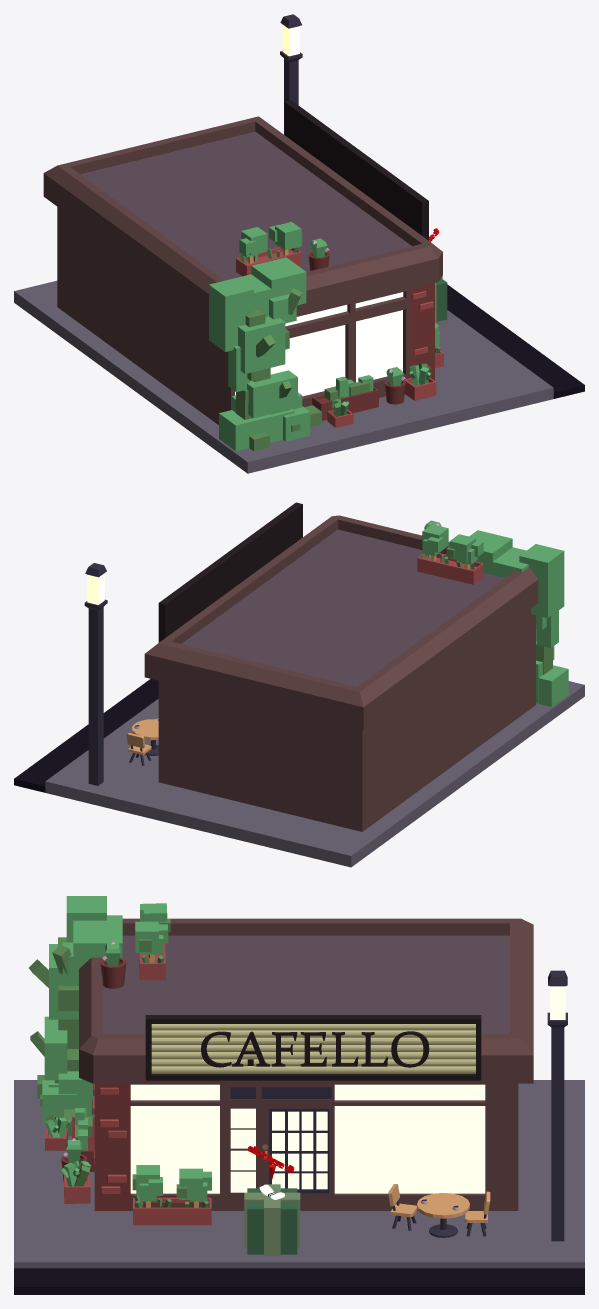
The model's file is placeholder-scene.gltf.
3 renders of one model, top to bottom at view 1: azimuth 30°, elevation 25°; view 2: azimuth 150°, elevation 25°; view 3: azimuth 270°, elevation 25°, orthographic. The views are drawn at different scales.
Visible parts, largest first — view 1: Cube.001, Cube, Plane.001, Cube.073, Cube.035, Cube.046, Cube.036, Cube.043, Cube.034, Cube.072, Cube.051, Cube.022 (+6 smaller); view 2: Cube.001, Cube, Plane.001, Cube.073, Cube.072, Cube.035, Cube.057, Cube.043, Cube.034, Cube.059, Cube.033, Cube.058 (+4 smaller); view 3: Plane.001, Cube.001, Cube, Cube.074, Cube.073, Cube.003, Cube.072, Cube.075, Text, Cube.004, Cube.034, Cube.014 (+17 smaller).
Boxes of the visible parts, left/top/right/bottom form: Cube.001: left=43, top=116, right=442, bottom=317; Cube: left=57, top=207, right=434, bottom=424; Plane.001: left=14, top=280, right=584, bottom=473; Cube.073: left=284, top=100, right=428, bottom=240; Cube.035: left=209, top=277, right=253, bottom=351; Cube.046: left=232, top=370, right=297, bottom=419; Cube.036: left=238, top=316, right=285, bottom=373; Cube.043: left=219, top=409, right=294, bottom=451; Cube.034: left=251, top=257, right=306, bottom=305; Cube.072: left=280, top=14, right=302, bottom=134; Cube.051: left=312, top=386, right=378, bottom=420; Cube.022: left=404, top=363, right=436, bottom=400; Cube.001: left=144, top=515, right=538, bottom=730; Cube: left=158, top=608, right=535, bottom=831; Plane.001: left=14, top=679, right=584, bottom=867; Cube.073: left=158, top=502, right=302, bottom=642; Cube.072: left=84, top=563, right=107, bottom=785; Cube.035: left=519, top=544, right=564, bottom=618; Cube.057: left=417, top=553, right=483, bottom=584; Cube.043: left=538, top=665, right=568, bottom=706; Cube.034: left=469, top=530, right=512, bottom=574; Cube.059: left=449, top=534, right=483, bottom=569; Cube.033: left=487, top=547, right=528, bottom=577; Cube.058: left=422, top=524, right=448, bottom=560; Plane.001: left=14, top=1080, right=584, bottom=1294; Cube.001: left=79, top=918, right=533, bottom=1083; Cube: left=94, top=1083, right=518, bottom=1210; Cube.074: left=151, top=1024, right=475, bottom=1073; Cube.073: left=145, top=1015, right=481, bottom=1080; Cube.003: left=261, top=1109, right=329, bottom=1193; Cube.072: left=547, top=970, right=567, bottom=1241; Cube.075: left=244, top=1184, right=300, bottom=1255; Text: left=201, top=1031, right=429, bottom=1067; Cube.004: left=230, top=1108, right=255, bottom=1192; Cube.034: left=73, top=922, right=122, bottom=981; Cube.014: left=133, top=1197, right=211, bottom=1225.
Size of the model in its own units: 4.21 by 2.72 by 5.04.
